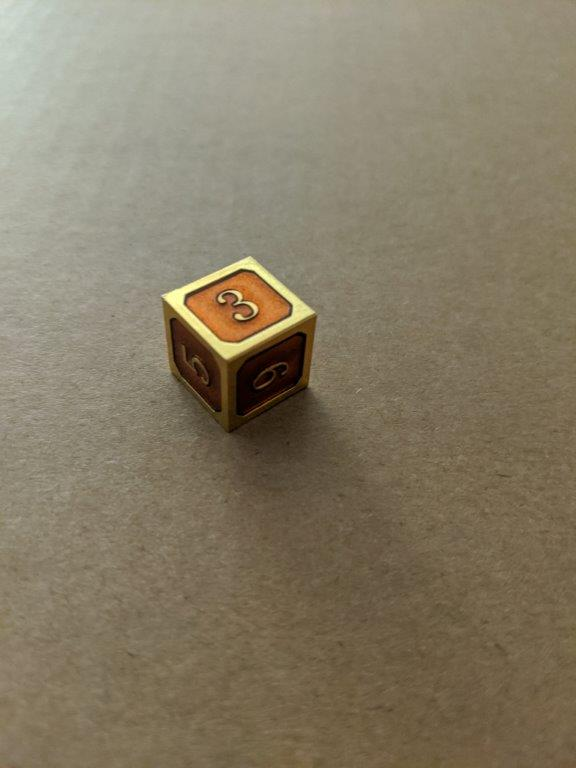d6-3: (161, 253, 319, 433)
